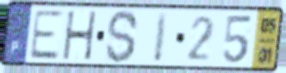2: (186, 14, 217, 63)
5: (221, 13, 254, 65)
E: (27, 8, 65, 62)
H: (61, 9, 99, 62)
I: (151, 11, 170, 65)
S: (104, 8, 141, 65)
